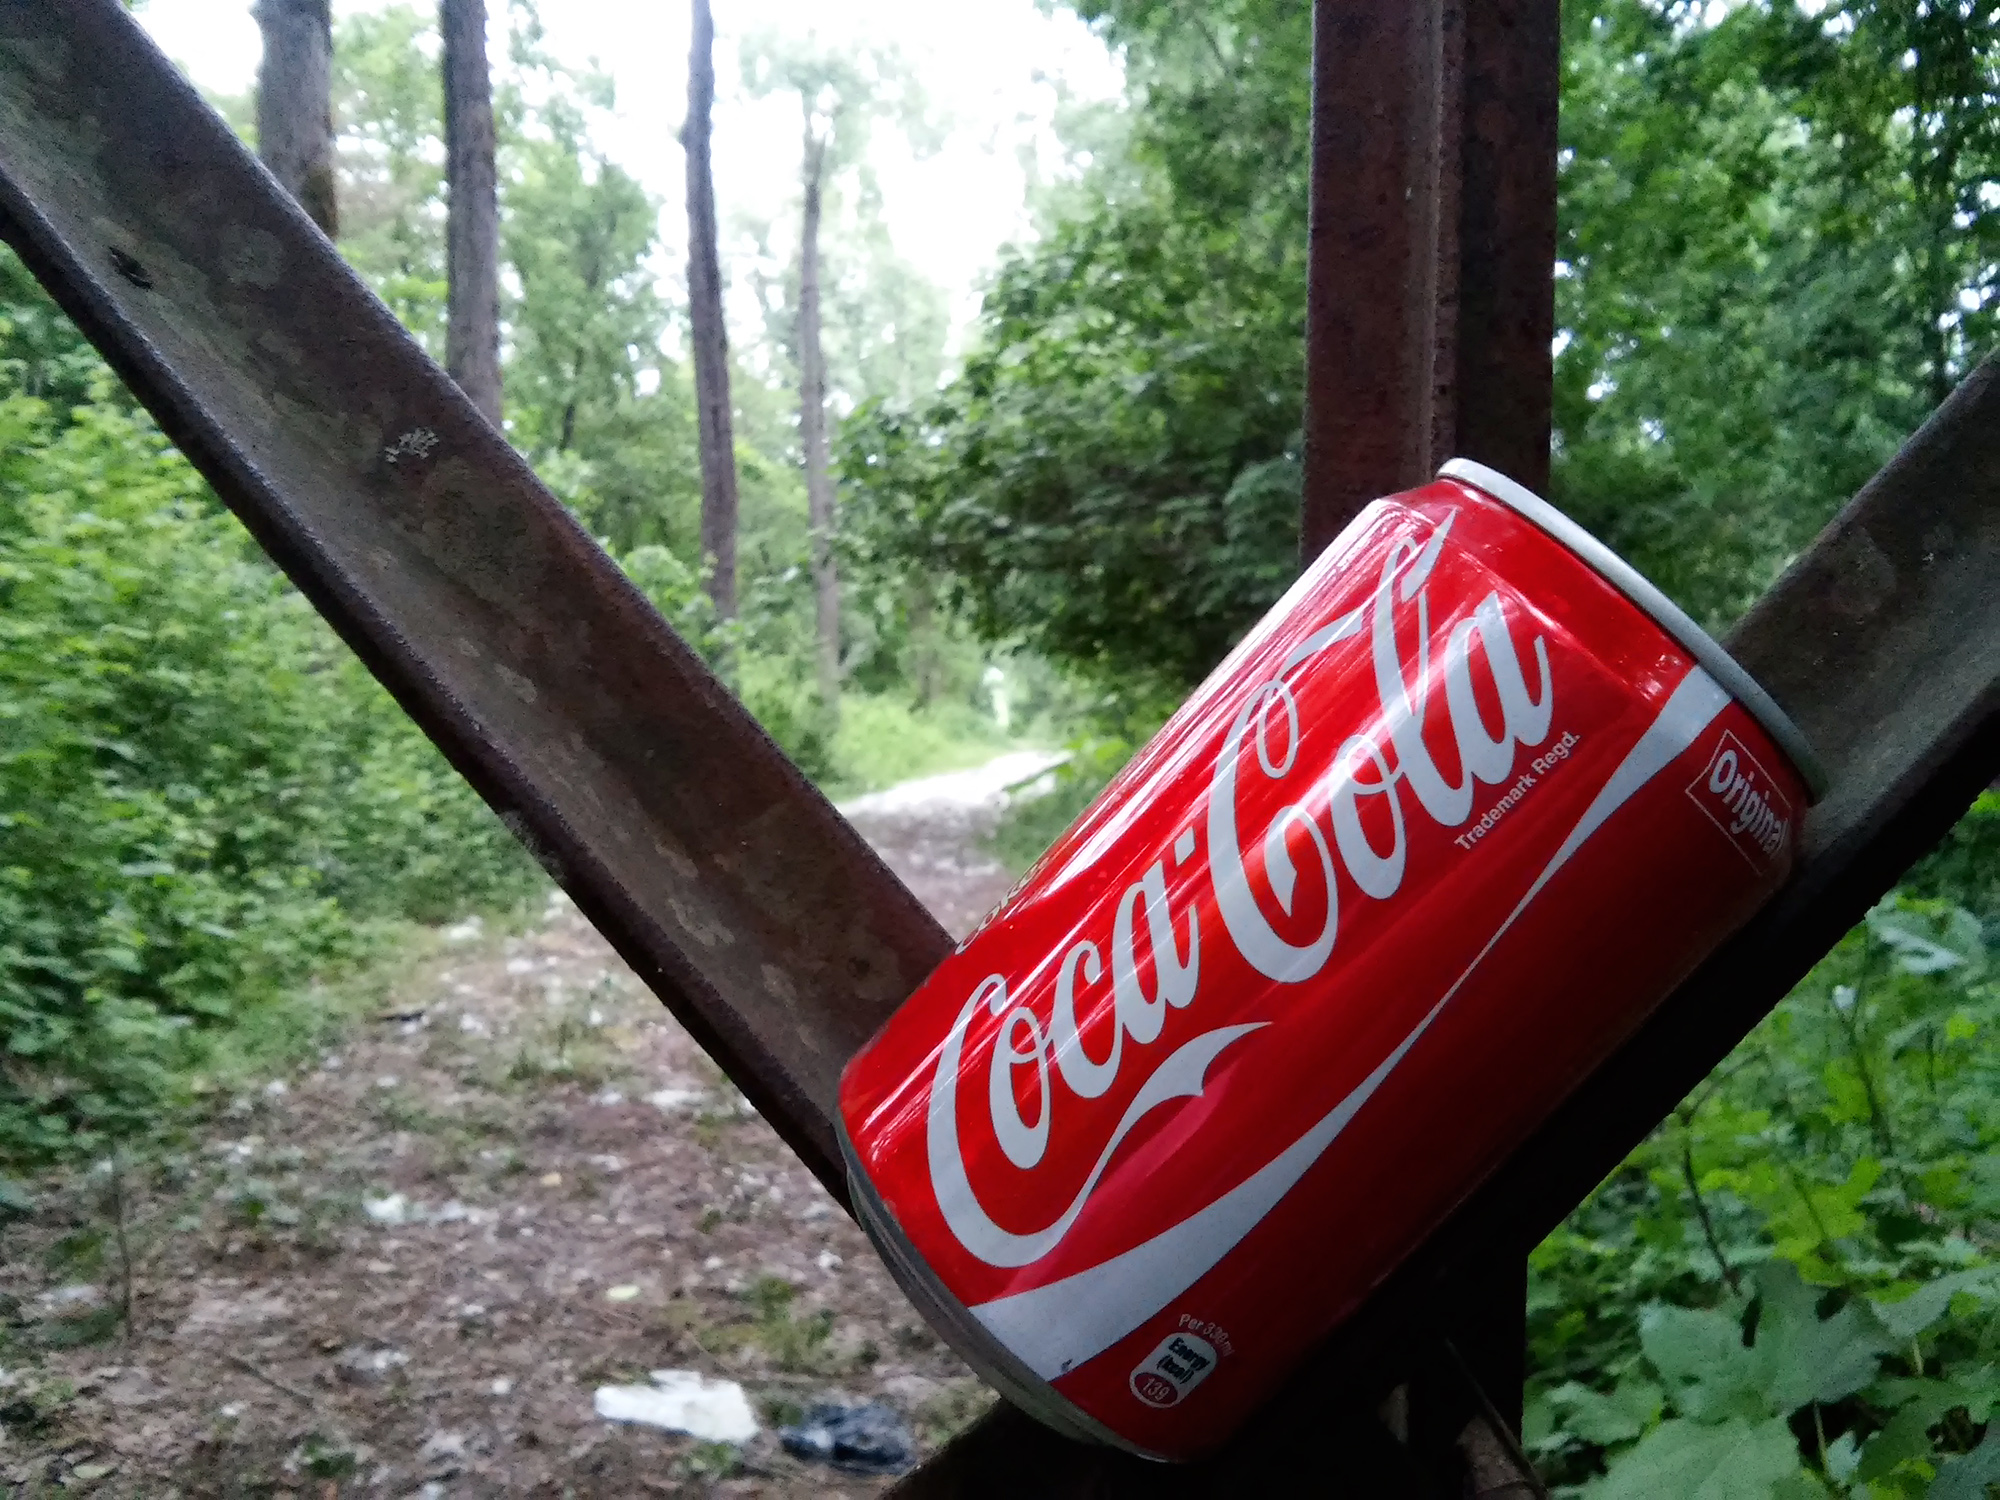coke: (809, 440, 1839, 1481)
